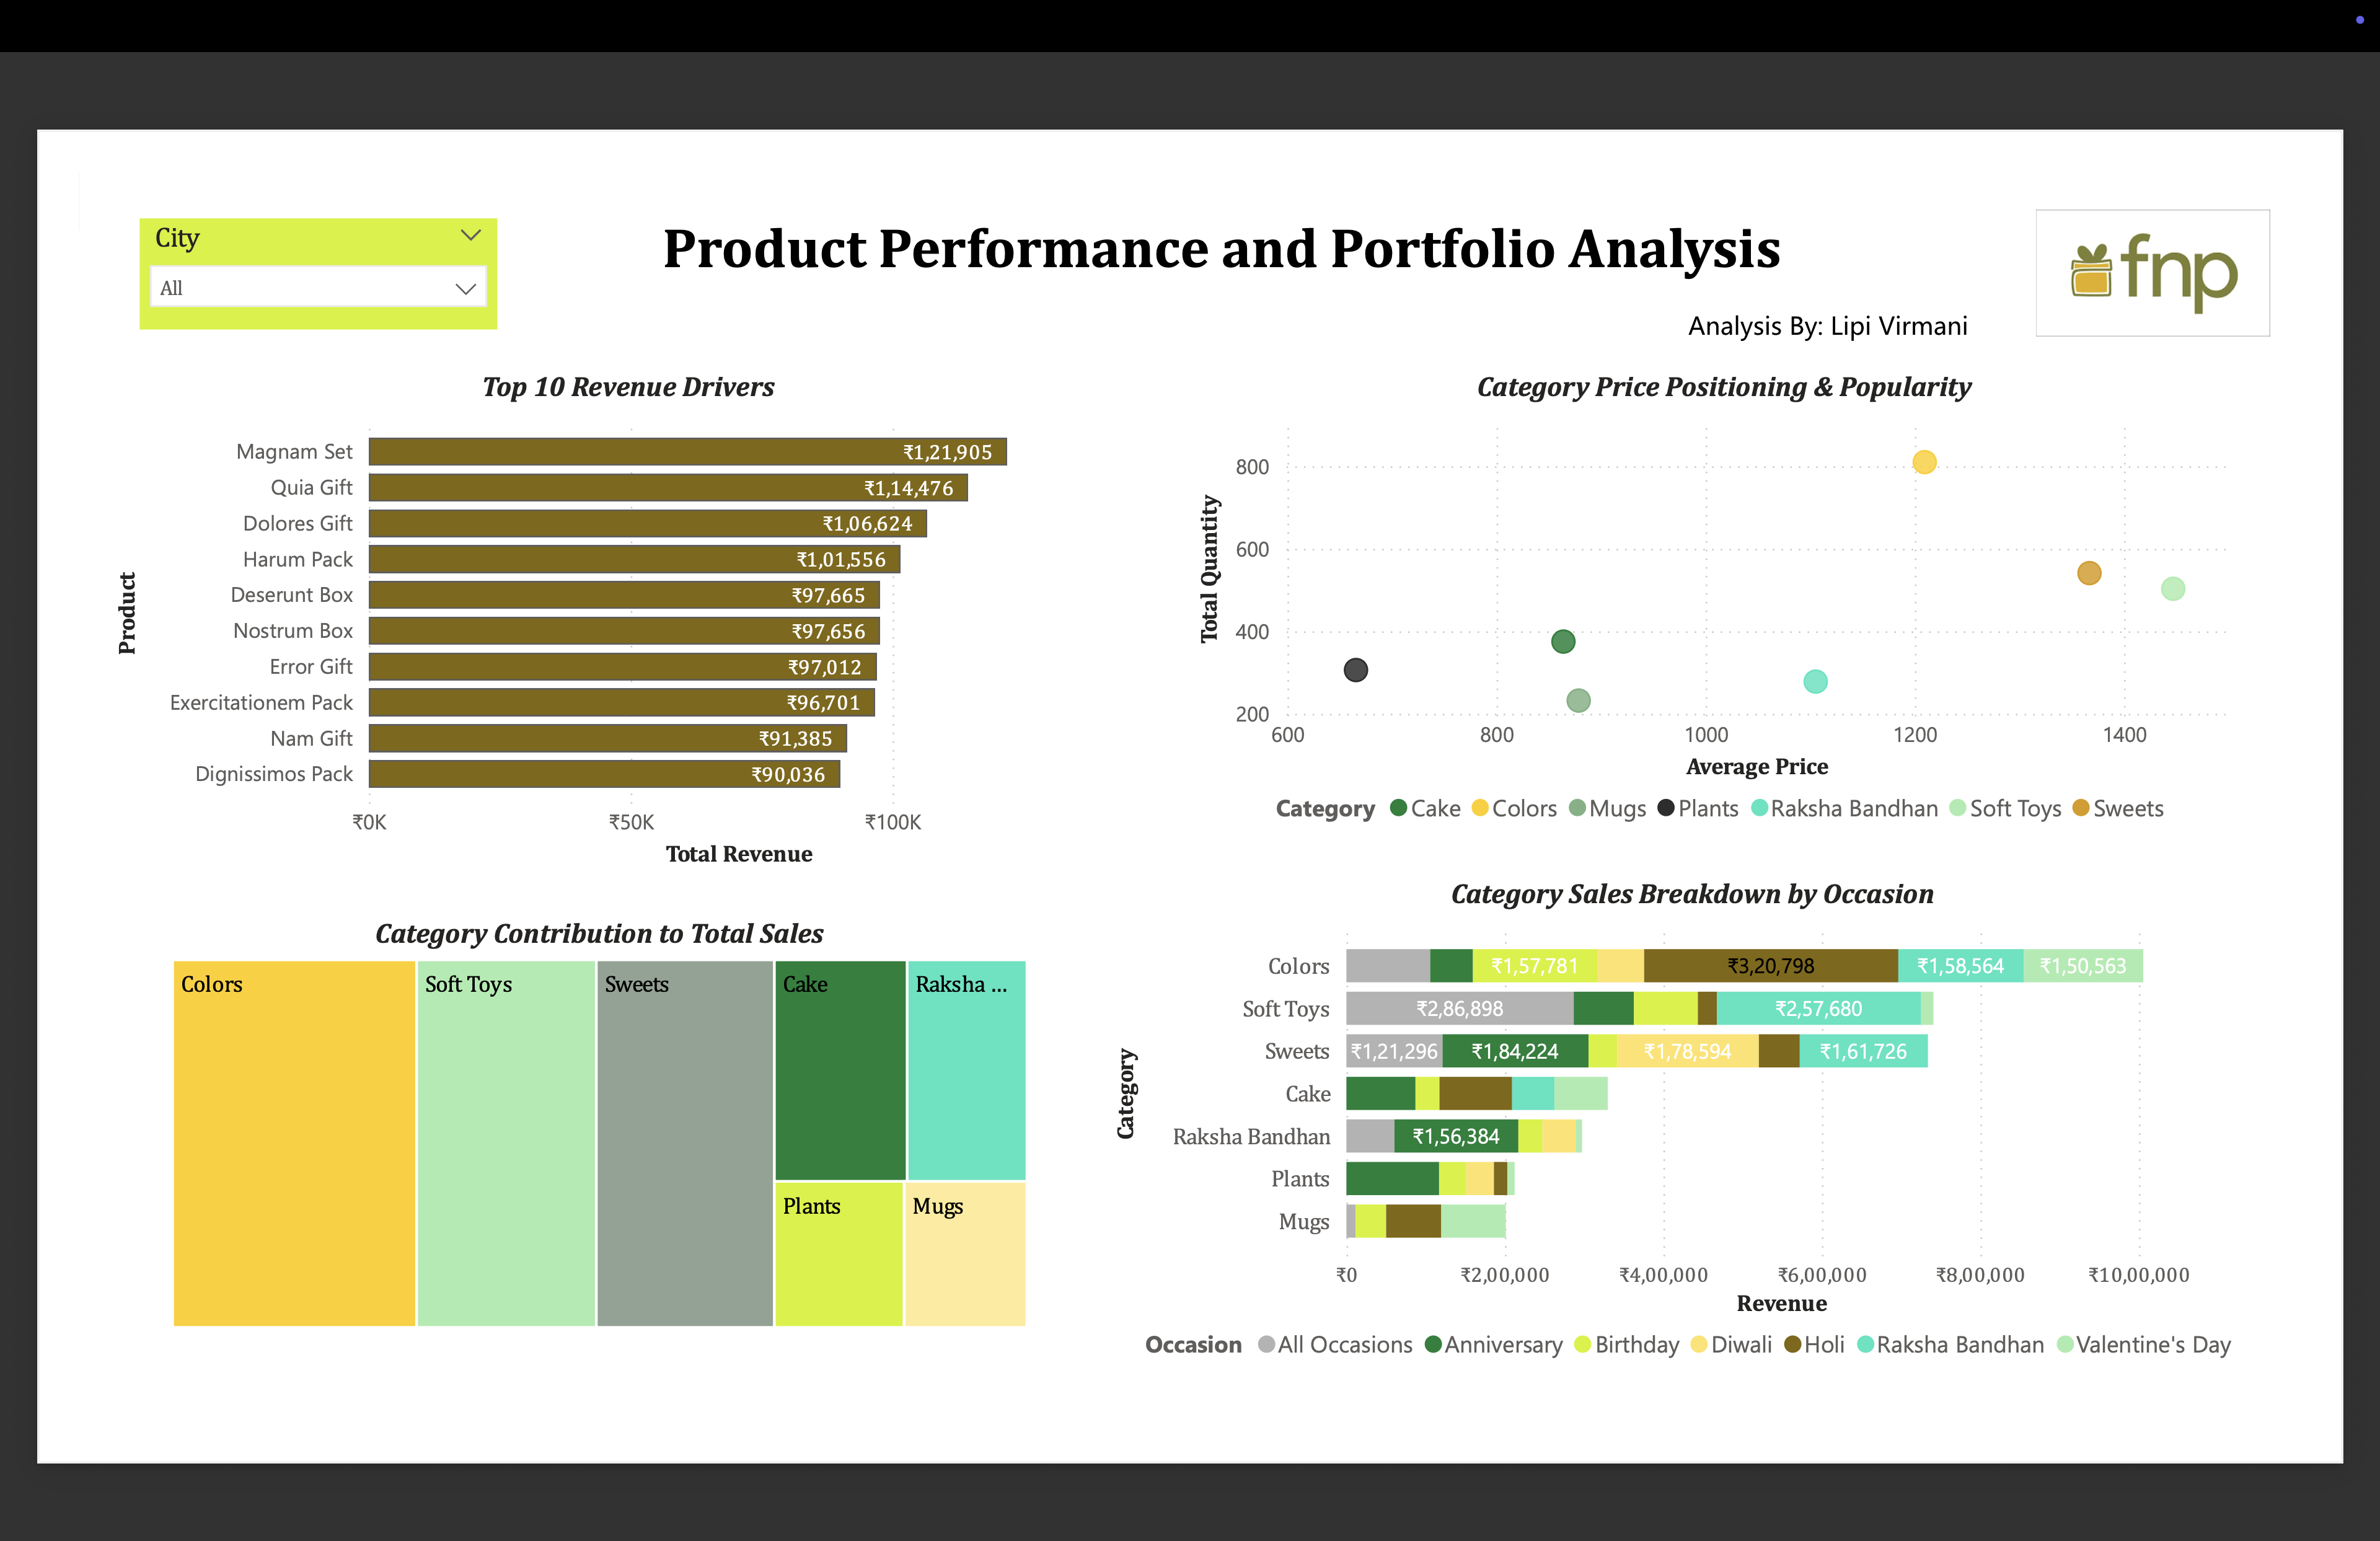

The page's visual inventory and layout, read from the dashboard file:
{"tool":"powerbi","page":{"name":"Product and category ","canvas":[1280,720],"ordinal":1},"visuals":[{"type":"textbox","box":[300.1,19.6,723.6,50.5],"z":0},{"type":"image","box":[1122.5,15.1,144.1,86.4],"z":1000},{"type":"clusteredBarChart","title":"Top 10 Revenue Drivers","fields":{"Category":["products.Product_Name"],"Y":["customers.Total Revenue"]},"box":[16.7,114.4,599.6,292],"z":2000},{"type":"treemap","title":"Category Contribution to Total Sales","fields":{"Group":["products.Category"],"Values":["customers.Total Revenue"]},"box":[48.9,429.1,501.8,242],"z":3000},{"type":"scatterChart","title":"Category Price Positioning & Popularity","fields":{"X":["products.Price (INR)"],"Y":["Sum(orders.Quantity)"],"Series":["products.Category"],"Category":["products.Category"]},"box":[640.1,114.4,616.3,270.6],"z":4000},{"type":"barChart","title":"Category Sales Breakdown by Occasion","fields":{"Category":["products.Category"],"Series":["orders.Occasion"],"Y":["customers.Total Revenue"]},"box":[592.4,406.5,674.7,287.3],"z":5000},{"type":"slicer","fields":{"Values":["customers.City"]},"box":[35.1,26.6,206.1,64.5],"z":6000}]}

Visuals, with their boxes on the page's 1280x720 design canvas (x1, y1, x2, y2). These are canvas units, not pixel positions in the 2380x1541 screenshot, which may show the page scaled, cropped or inside an application window:
textbox: select_region(300, 20, 1024, 70)
image: select_region(1122, 15, 1267, 102)
"Top 10 Revenue Drivers" clusteredBarChart: select_region(17, 114, 616, 406)
"Category Contribution to Total Sales" treemap: select_region(49, 429, 551, 671)
"Category Price Positioning & Popularity" scatterChart: select_region(640, 114, 1256, 385)
"Category Sales Breakdown by Occasion" barChart: select_region(592, 406, 1267, 694)
slicer - customers.City: select_region(35, 27, 241, 91)
